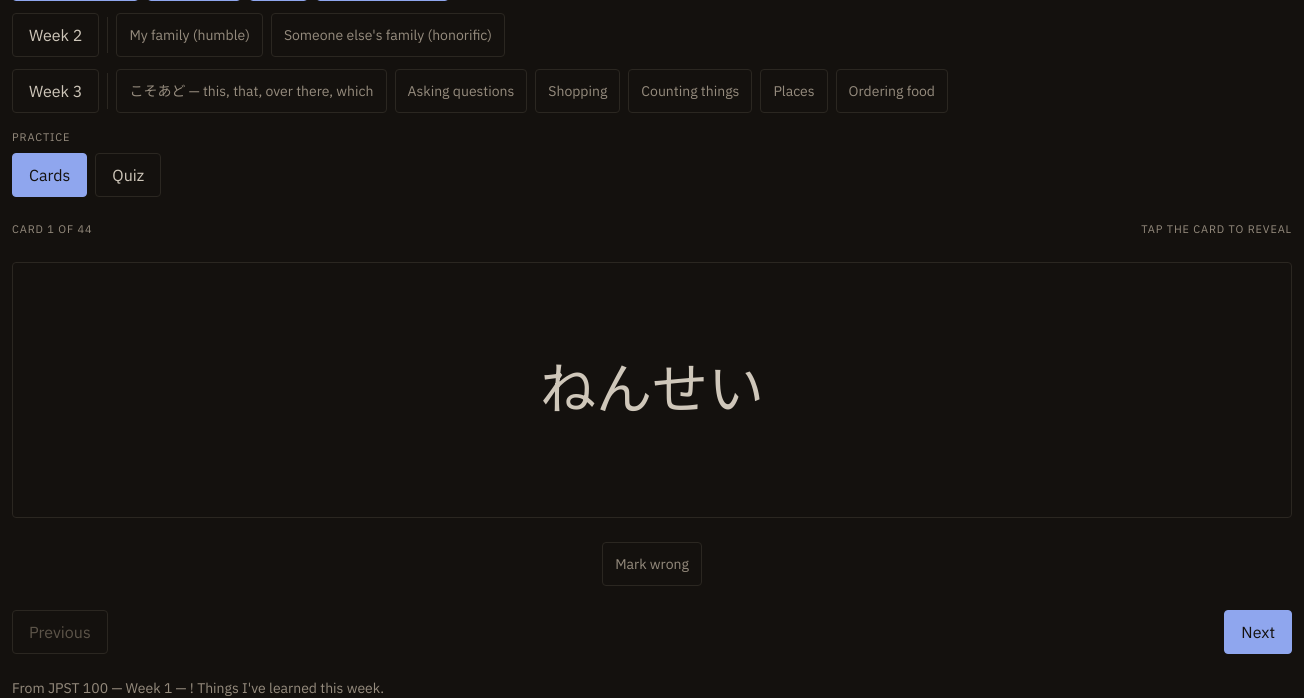
the scope picker › restarts the cards when the scope changes
The image size is (1304, 698).
(page scrolled)
Click the button "Next". click: (1258, 632)
box: [1224,610,1292,654]
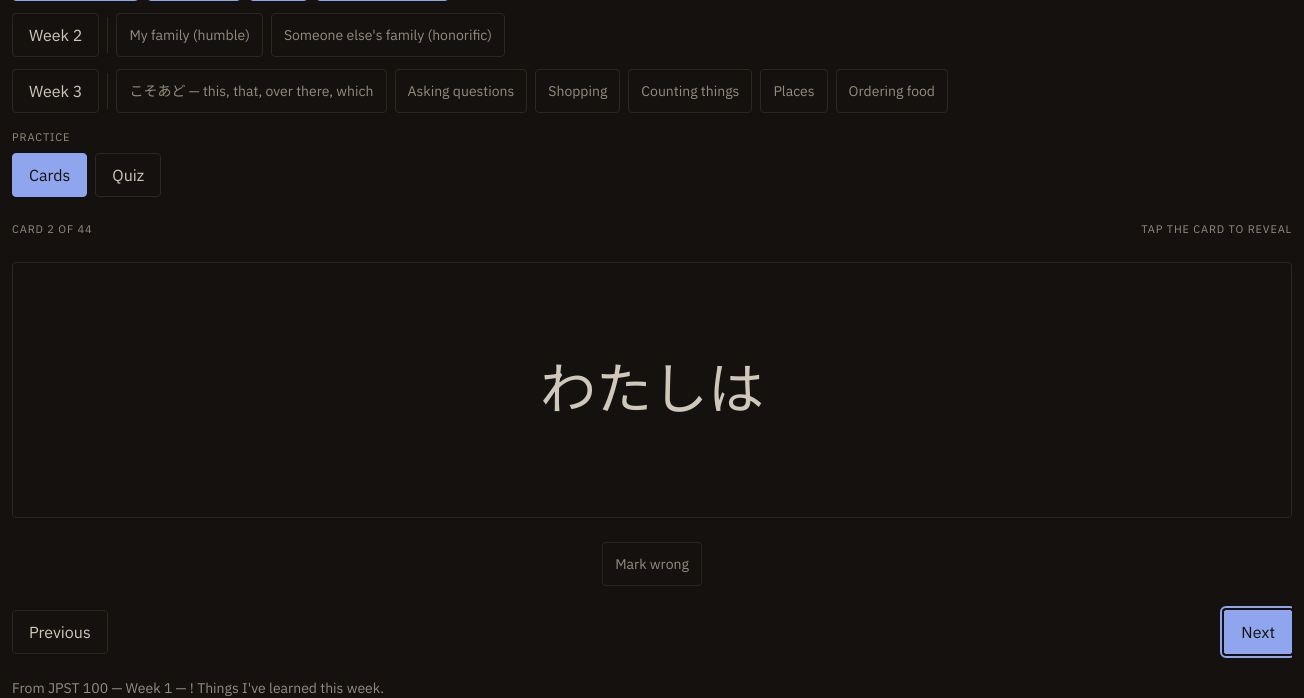
Click the button "Next". click: (1258, 632)
box: [1224,610,1292,654]
(page scrolled)
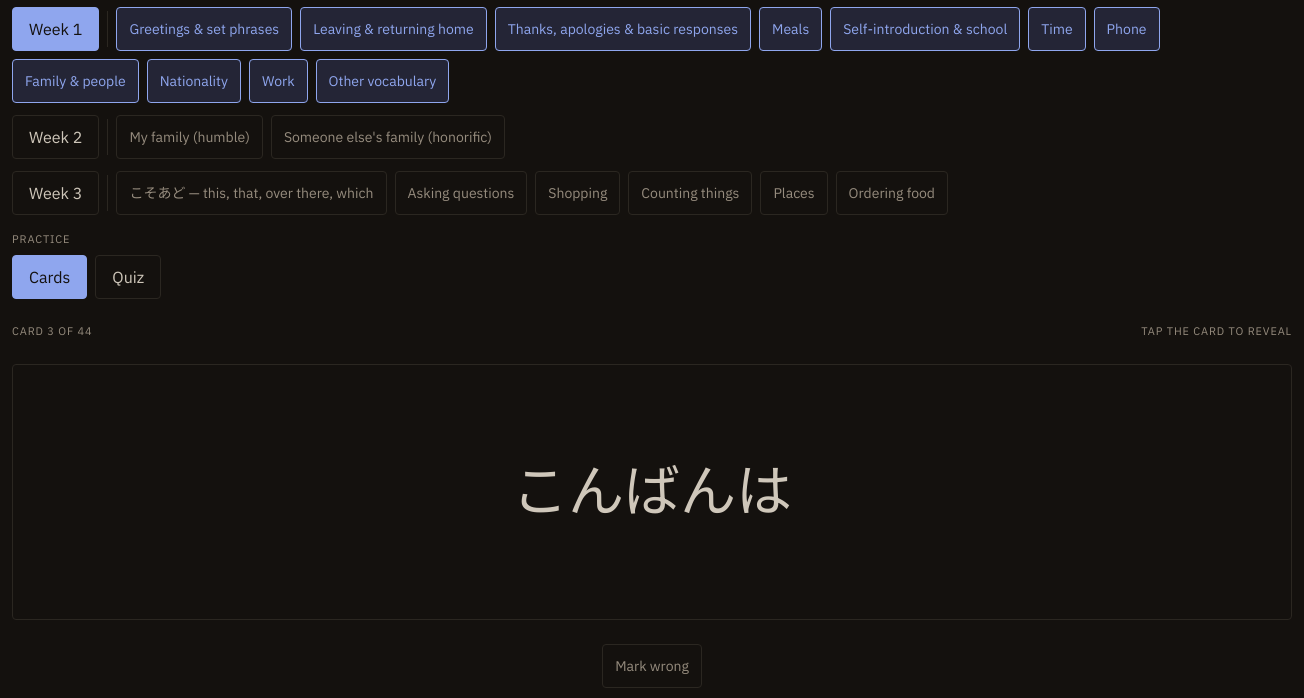
Expected: the heading "Card 3 of 44" is shown, [12,323,92,340]
Click the button "Greetings & set phrases". click: (204, 28)
box: [116,6,292,50]
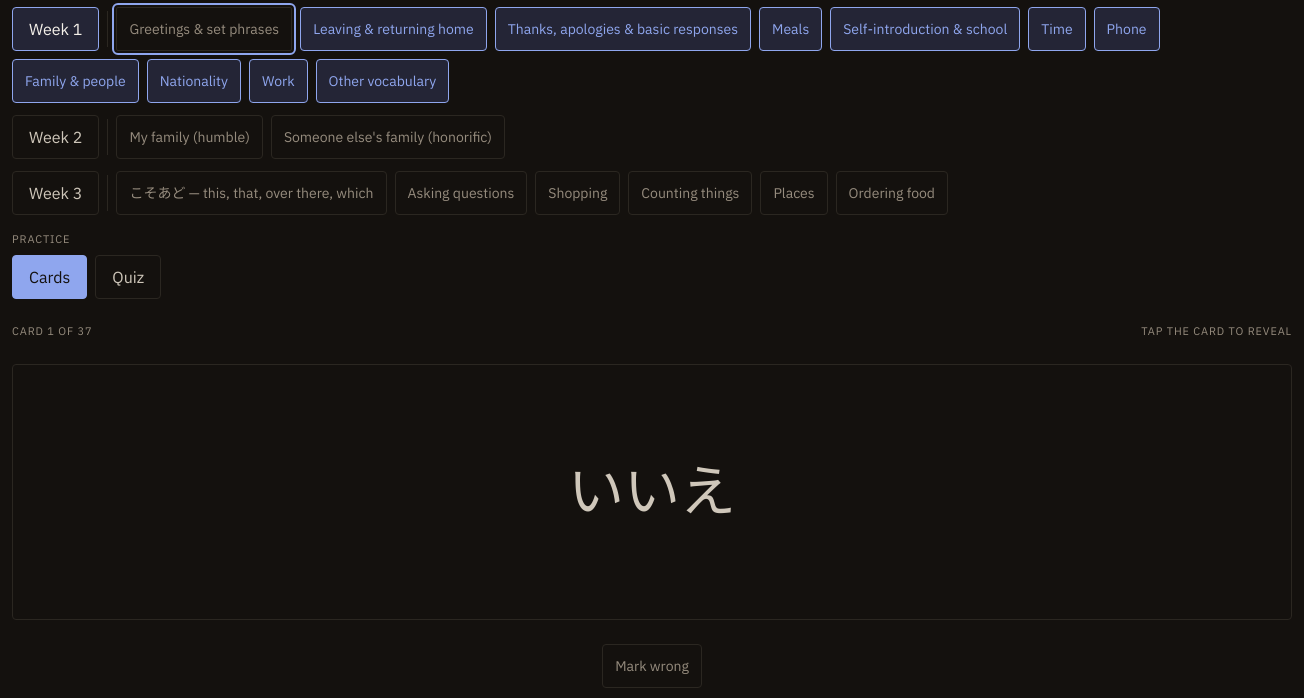
Expected: the heading "Card 1 of 37" is shown, [12,323,92,340]
